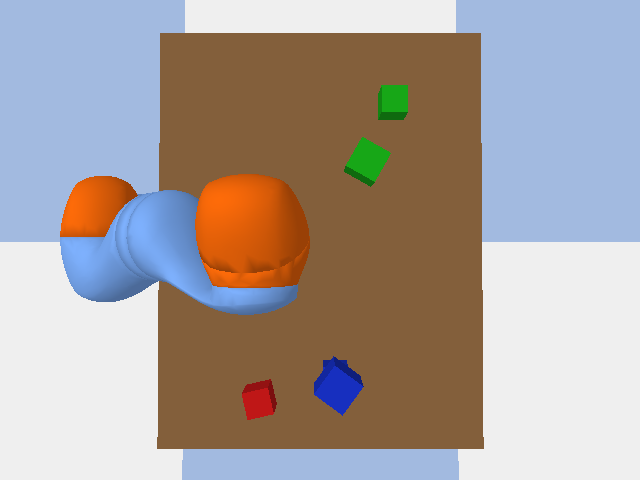blue_obj: (314, 356, 363, 415), (323, 360, 347, 369)
green_obj: (344, 137, 390, 186), (378, 85, 407, 119)
red_obj: (242, 379, 276, 419)
